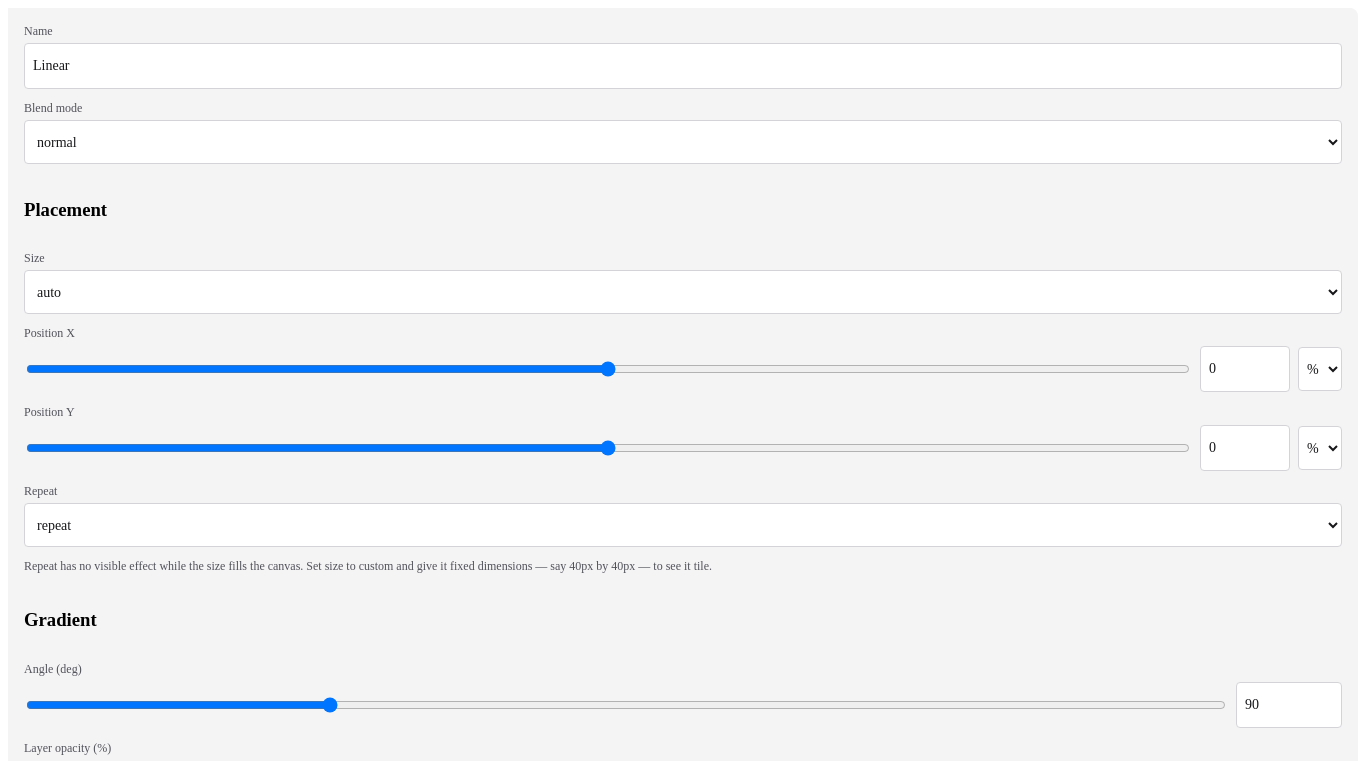
LayerEditor › reveals width and height only for a custom size
Expected: the field labelled "Width" is not shown
Select "custom" in the dropdown labelled "Size" at (683, 292), box [24,270,1342,314]
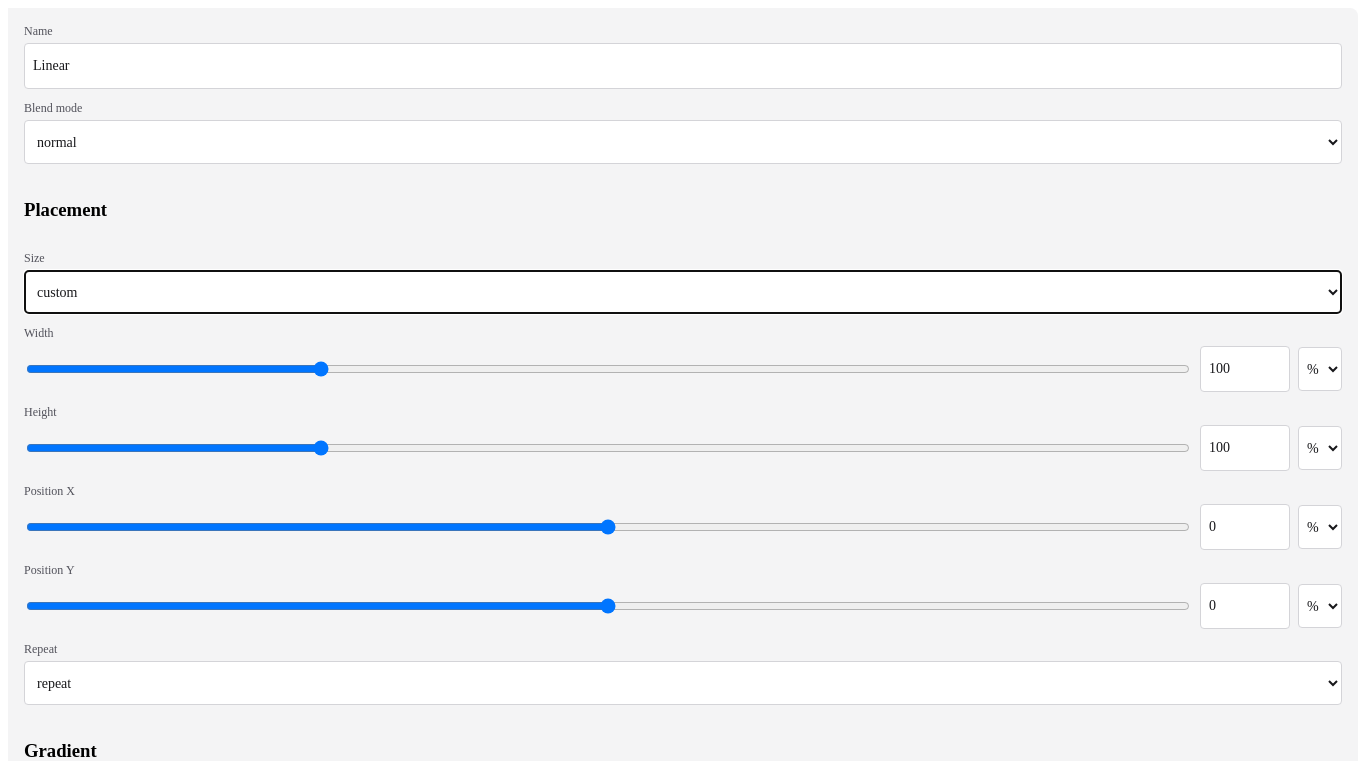
Expected: the number field labelled "Width" is shown, [1200,346,1290,392]
